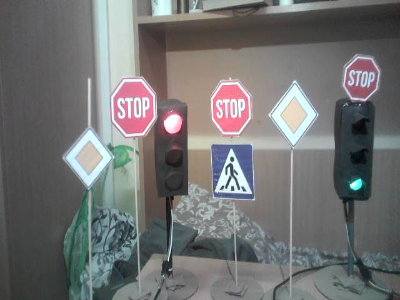crosswalk: (213, 144, 253, 196)
priority_road: (270, 82, 318, 145), (63, 129, 113, 187)
stop: (113, 79, 156, 137), (211, 82, 249, 132), (342, 55, 379, 102)
trafficlight_green: (339, 103, 372, 199)
trafficlight_red: (156, 106, 187, 193)
